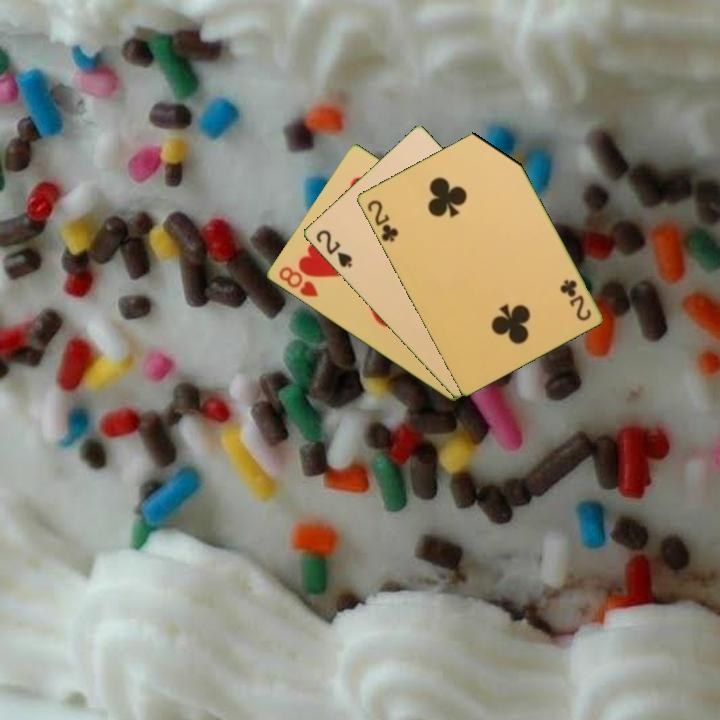2c: (363, 196, 401, 245), (557, 275, 594, 324)
2s: (312, 226, 355, 271)
8h: (275, 263, 321, 300)
